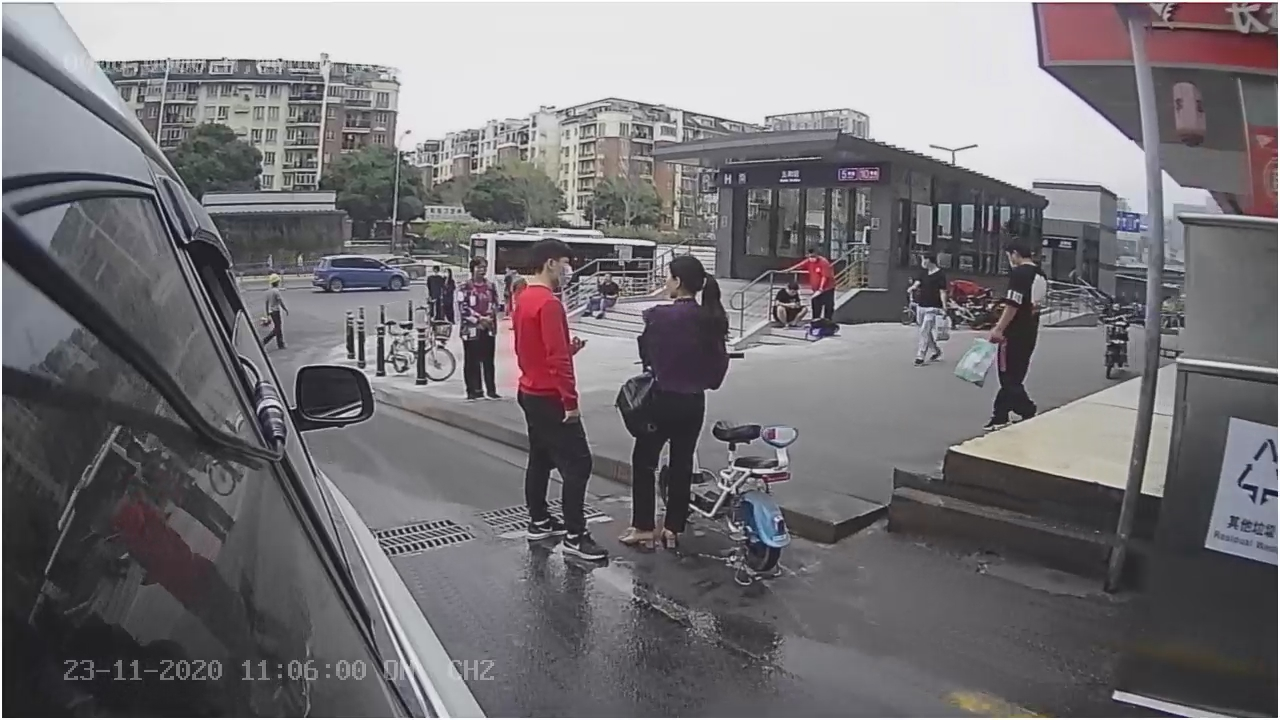person: (502, 234, 615, 567)
